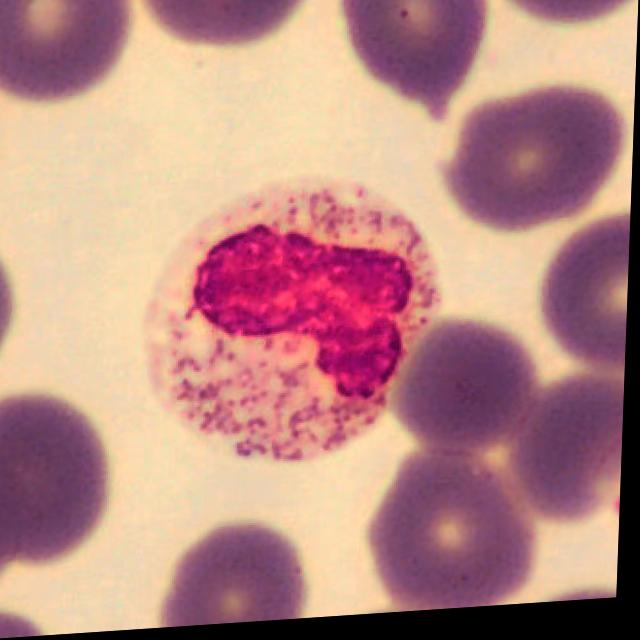Bastonete: (144, 176, 443, 467)
